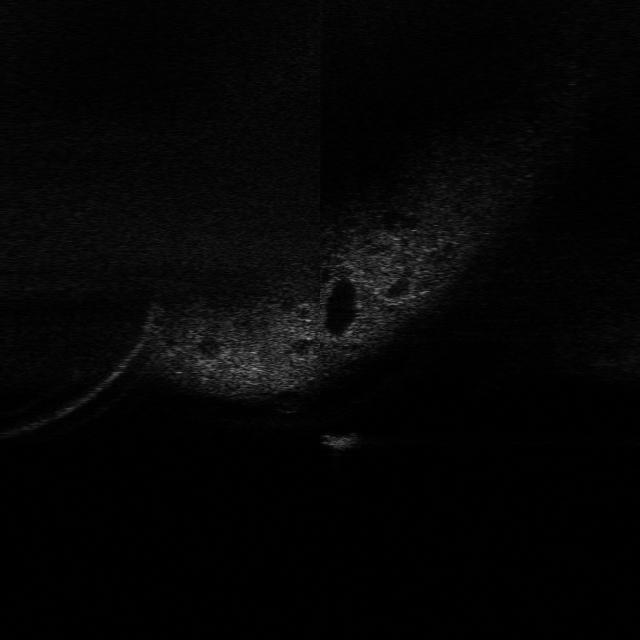cube: (314, 427, 366, 452)
